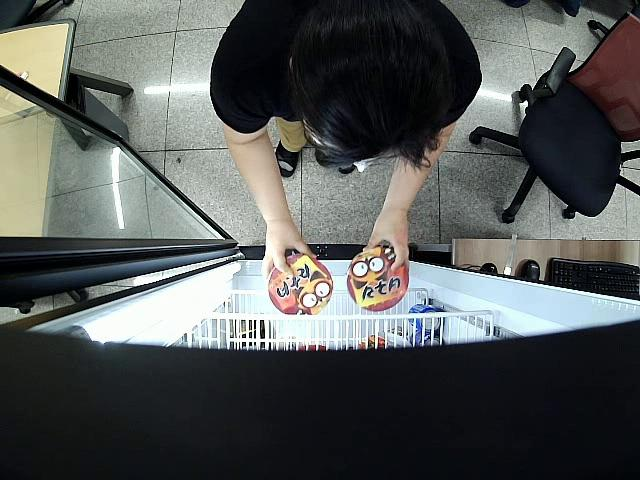00_hand: (363, 216, 411, 287), (261, 223, 319, 277)
05_nuguri_L: (346, 245, 408, 311), (269, 255, 333, 314)
